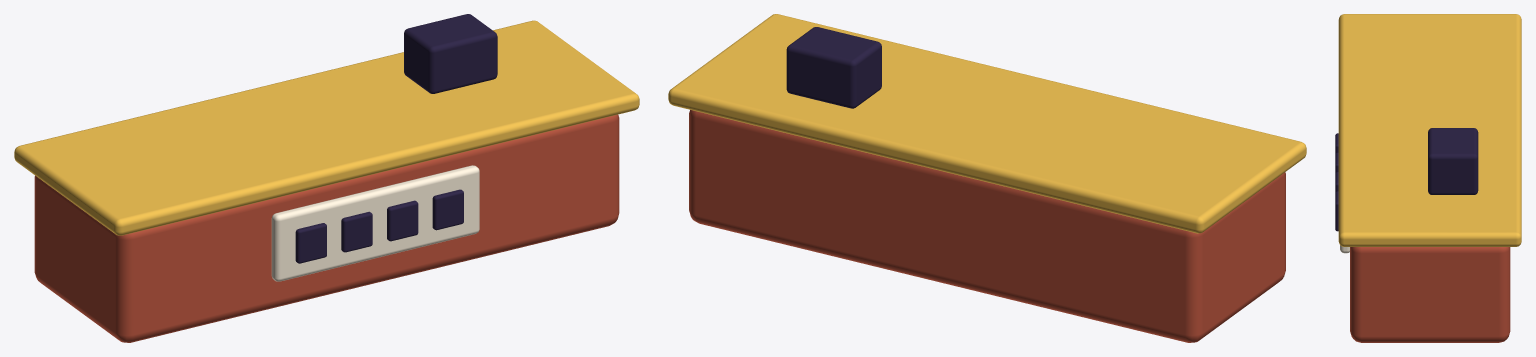
Rendered from info_desk.glb.
3 renders of one model, left to right at view 1: azimuth 30°, elevation 25°; view 2: azimuth 150°, elevation 25°; view 3: azimuth 270°, elevation 25°, orthographic. The views are drawn at different scales.
Parts seen in each view (by area): view 1: info_desk; view 2: info_desk; view 3: info_desk.
Boxes of the visible parts, bbox=[...] form: info_desk: bbox=[14, 14, 639, 342]; info_desk: bbox=[668, 14, 1306, 342]; info_desk: bbox=[1335, 14, 1521, 342].
Size of the model in its own units: 2.3 by 0.76 by 0.815.
